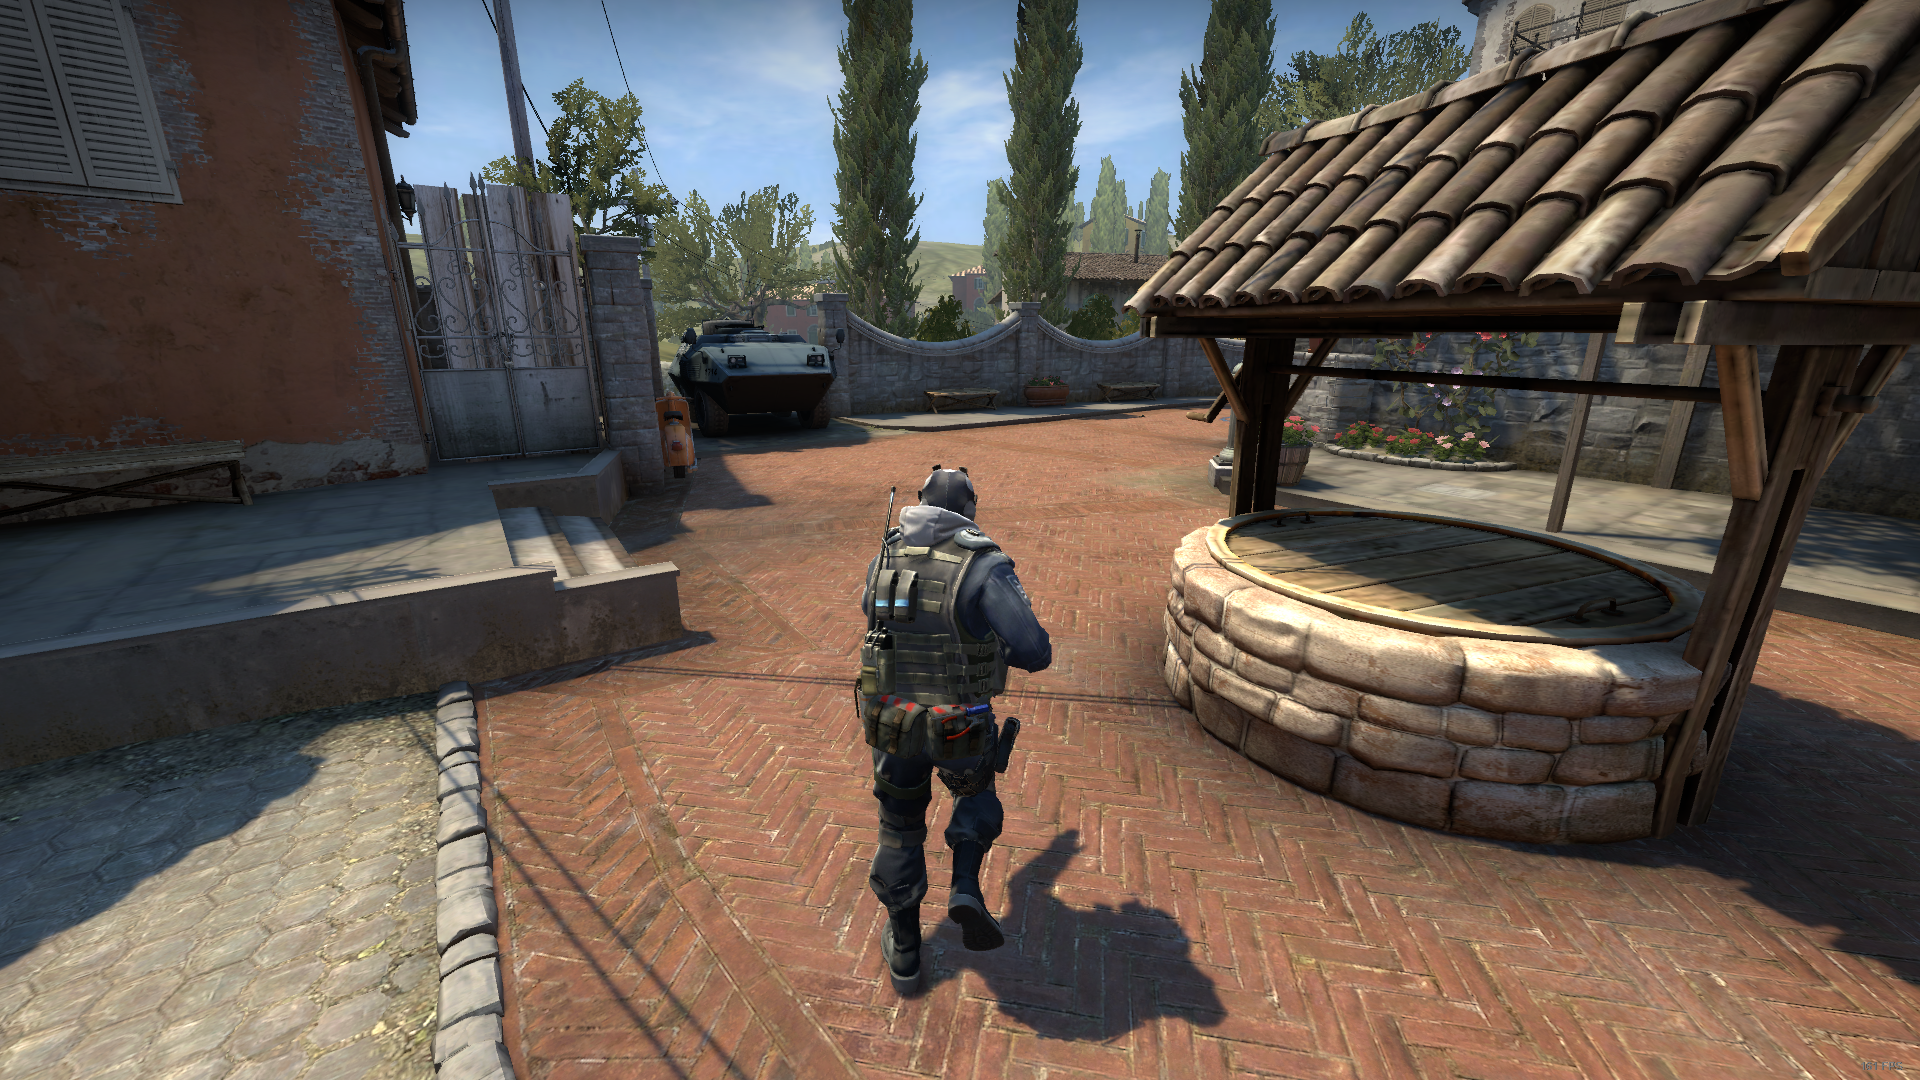t: (855, 464, 1031, 997)
